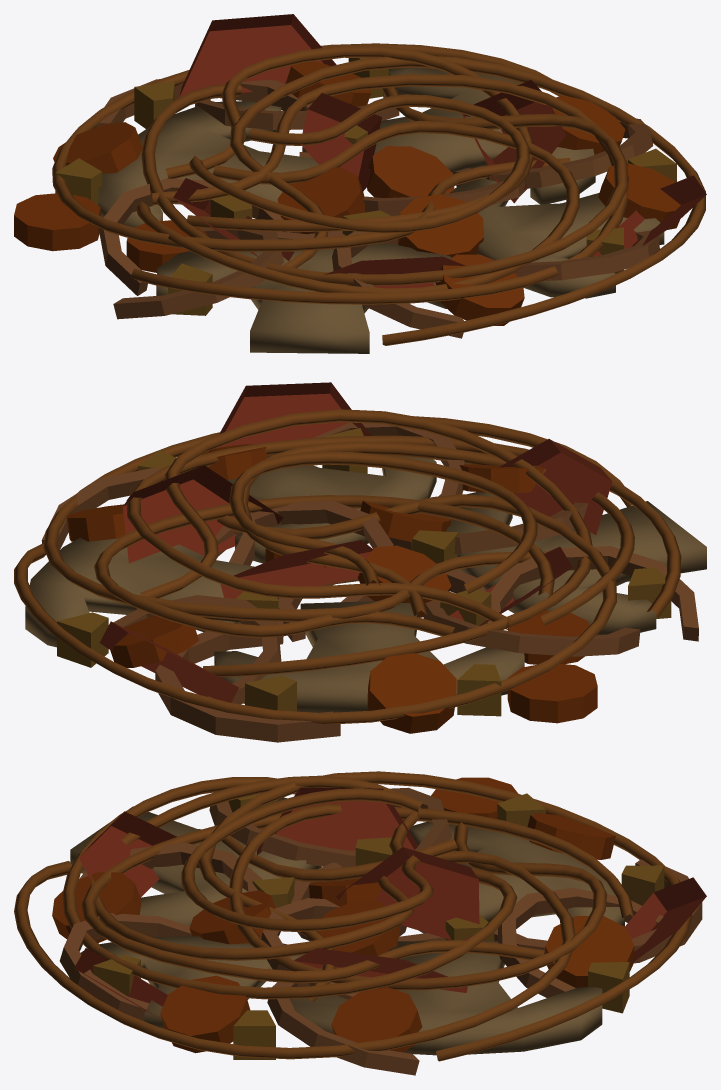
The model's file is Sauteed_Pan_ingredients.glb.
3 renders of one model, top to bottom at view 1: azimuth 30°, elevation 25°; view 2: azimuth 150°, elevation 25°; view 3: azimuth 270°, elevation 25°, orthographic. The views are drawn at different scales.
Visible parts, largest first — view 1: Fried_Pan_Noodles, Sauteed_Pan_Mushrooms, Sauteed_Pan_Carrot, Sauteed_Pan_Onion, Sauteed_Pan_Tomato, Sauteed_Pan_Garlic; view 2: Fried_Pan_Noodles, Sauteed_Pan_Mushrooms, Sauteed_Pan_Onion, Sauteed_Pan_Carrot, Sauteed_Pan_Tomato, Sauteed_Pan_Garlic; view 3: Fried_Pan_Noodles, Sauteed_Pan_Mushrooms, Sauteed_Pan_Carrot, Sauteed_Pan_Tomato, Sauteed_Pan_Onion, Sauteed_Pan_Garlic.
Boxes of the visible parts, left/top/right/bottom form: Fried_Pan_Noodles: left=52, top=43, right=705, bottom=345; Sauteed_Pan_Mushrooms: left=98, top=67, right=664, bottom=353; Sauteed_Pan_Carrot: left=14, top=61, right=680, bottom=325; Sauteed_Pan_Onion: left=95, top=79, right=659, bottom=338; Sauteed_Pan_Tomato: left=173, top=14, right=706, bottom=288; Sauteed_Pan_Garlic: left=55, top=45, right=676, bottom=315; Fried_Pan_Noodles: left=14, top=409, right=681, bottom=723; Sauteed_Pan_Mushrooms: left=25, top=455, right=706, bottom=712; Sauteed_Pan_Onion: left=41, top=422, right=698, bottom=742; Sauteed_Pan_Carrot: left=66, top=444, right=597, bottom=733; Sauteed_Pan_Tomato: left=99, top=382, right=612, bottom=702; Sauteed_Pan_Garlic: left=57, top=428, right=671, bottom=716; Fried_Pan_Noodles: left=14, top=771, right=692, bottom=1061; Sauteed_Pan_Mushrooms: left=69, top=797, right=624, bottom=1055; Sauteed_Pan_Carrot: left=52, top=777, right=634, bottom=1053; Sauteed_Pan_Tomato: left=74, top=787, right=706, bottom=1023; Sauteed_Pan_Onion: left=59, top=787, right=702, bottom=1075; Sauteed_Pan_Garlic: left=93, top=793, right=664, bottom=1059.
Size of the model in its own units: 0.231 by 0.0327 by 0.2413.
